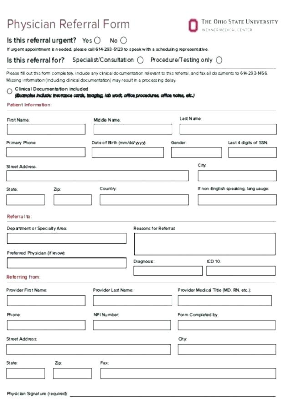textbox: (132, 231, 280, 256), (98, 365, 279, 381), (6, 169, 192, 183), (4, 342, 172, 356), (5, 231, 128, 245), (6, 256, 128, 270), (178, 122, 279, 137), (177, 343, 279, 357), (196, 168, 279, 184), (176, 294, 273, 307), (5, 122, 88, 137), (176, 319, 278, 331), (98, 193, 190, 206), (196, 193, 280, 207), (92, 123, 175, 137), (91, 293, 174, 307), (6, 318, 87, 332), (4, 146, 88, 159), (6, 294, 87, 307), (90, 145, 165, 159), (92, 319, 173, 331), (205, 265, 279, 278), (133, 264, 205, 277), (227, 145, 279, 160), (170, 146, 224, 160), (4, 366, 47, 381), (52, 193, 93, 207), (4, 193, 47, 206), (50, 367, 93, 380)
textline: (68, 386, 277, 399)
